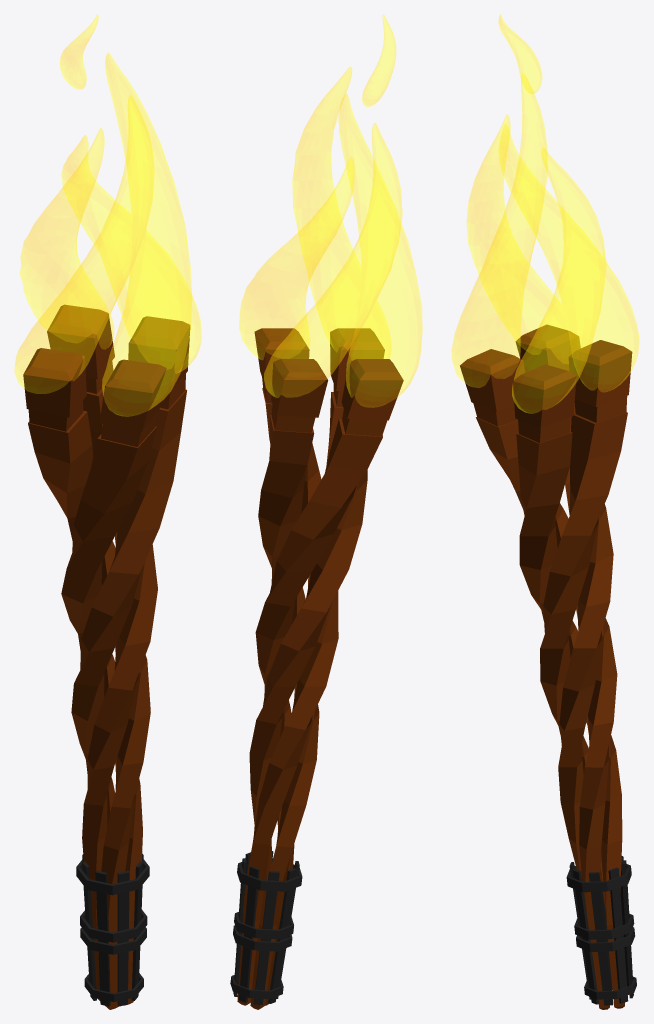
The model's file is torch.glb.
The picture shows the model from 3 angles, left to right: view 1: azimuth 30°, elevation 25°; view 2: azimuth 150°, elevation 25°; view 3: azimuth 270°, elevation 25°; orthographic projection. The views are drawn at different scales.
Visible parts, largest first — view 1: Object_2, Object_4, Object_3; view 2: Object_2, Object_4, Object_3; view 3: Object_2, Object_4, Object_3.
Part boxes in pixels (x1,y1,x2,y2): Object_2: (23,304,190,1009); Object_4: (14,14,201,416); Object_3: (76,854,149,1006); Object_2: (237,328,403,1009); Object_4: (239,14,422,407); Object_3: (230,851,302,1004); Object_2: (460,324,632,1009); Object_4: (451,14,639,413); Object_3: (566,856,636,1005).
Bounding box in the file's own units: 4.03 × 22.5 × 4.
